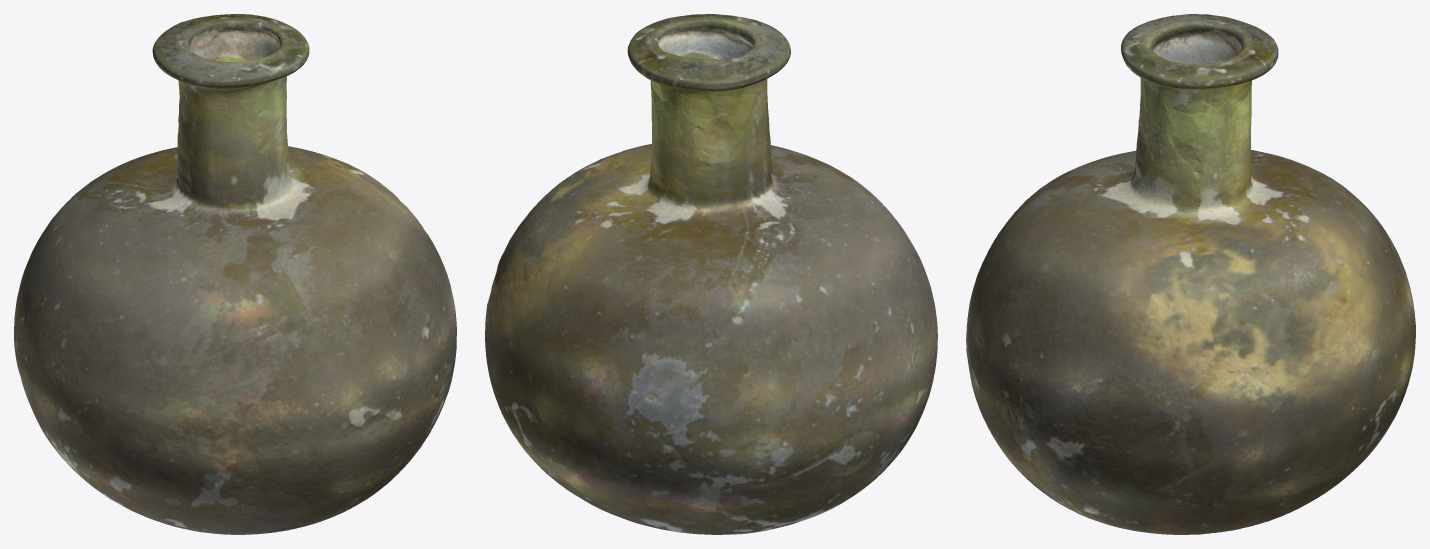
Rendered from balsamario-draco.glb.
3 renders of one model, left to right at view 1: azimuth 30°, elevation 25°; view 2: azimuth 150°, elevation 25°; view 3: azimuth 270°, elevation 25°, orthographic. The views are drawn at different scales.
Parts seen in each view (by area): view 1: Sharp fusion 1; view 2: Sharp fusion 1; view 3: Sharp fusion 1.
Part boxes in pixels (box(x1,y1,x2,y2)): Sharp fusion 1: box(14, 14, 456, 534); Sharp fusion 1: box(485, 14, 937, 534); Sharp fusion 1: box(966, 14, 1415, 534).
Bounding box in the file's own units: 90.12 × 103 × 90.67.
Materials: 1 (1 with a texture image).
